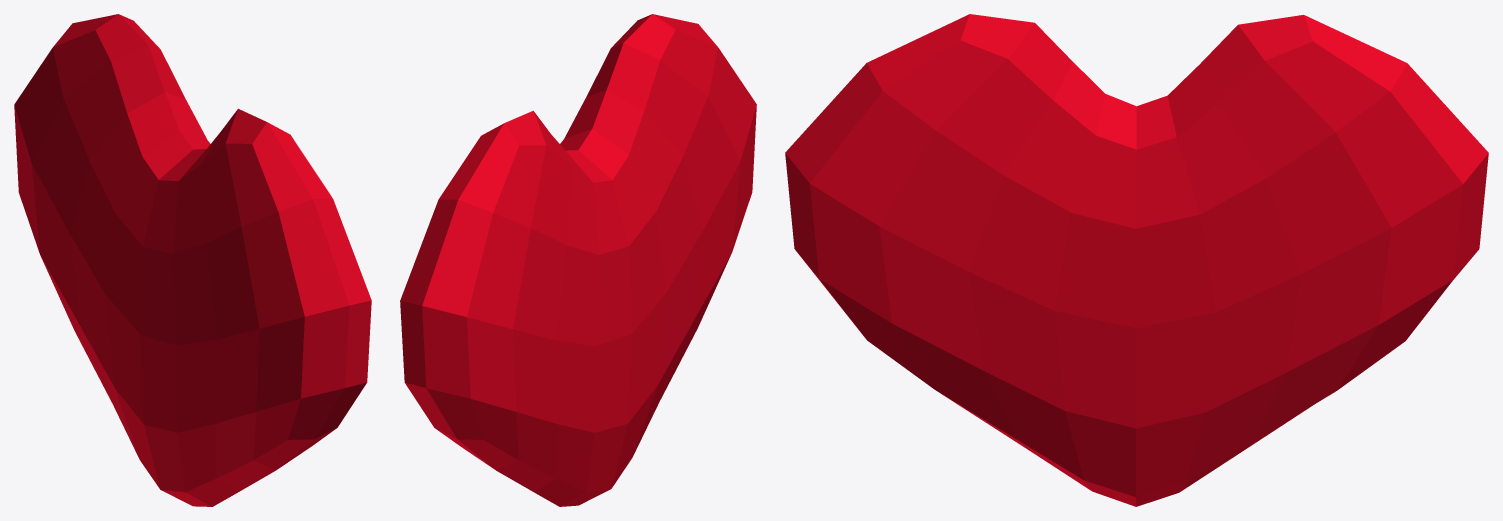
The model's file is corazon.fbx.
3 views of the same model, side by side, from view 1: azimuth 30°, elevation 25°; view 2: azimuth 150°, elevation 25°; view 3: azimuth 270°, elevation 25° (orthographic). The views are drawn at different scales.
Parts seen in each view (by area): view 1: Cube.003; view 2: Cube.003; view 3: Cube.003.
Boxes of the visible parts, x1,y1,x2,y2 form: Cube.003: (14, 14, 371, 506); Cube.003: (400, 14, 756, 506); Cube.003: (785, 14, 1488, 506).
Bounding box in the file's own units: 48.66 × 192 × 249.
